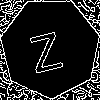Z: (25, 22, 65, 74)
